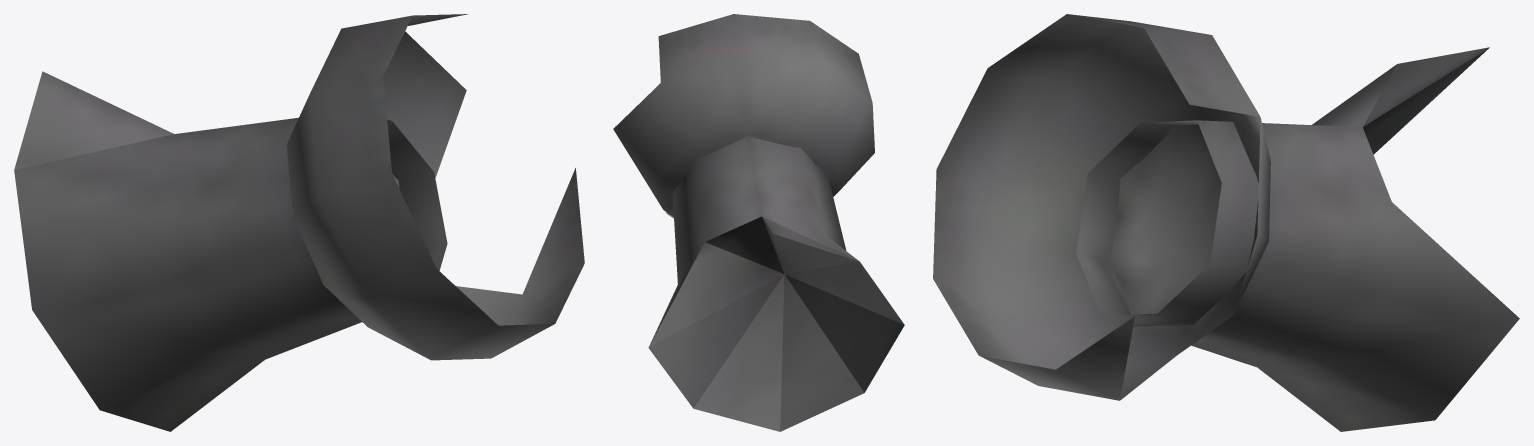
Rendered from JiJiaPao_danqiping_02_sunhuai.FBX.
3 views of the same model, side by side, from view 1: azimuth 30°, elevation 25°; view 2: azimuth 150°, elevation 25°; view 3: azimuth 270°, elevation 25° (orthographic). The views are drawn at different scales.
Visible parts, largest first — view 1: JiJiaPao_danqiping_01_sunhuai; view 2: JiJiaPao_danqiping_01_sunhuai; view 3: JiJiaPao_danqiping_01_sunhuai.
Boxes of the visible parts, <box> form: JiJiaPao_danqiping_01_sunhuai: <box>14,14,584,431</box>; JiJiaPao_danqiping_01_sunhuai: <box>613,14,904,431</box>; JiJiaPao_danqiping_01_sunhuai: <box>933,14,1519,431</box>.
Bounding box in the file's own units: 0.3721 × 0.3432 × 0.3767.
1 material, 1 textured.
